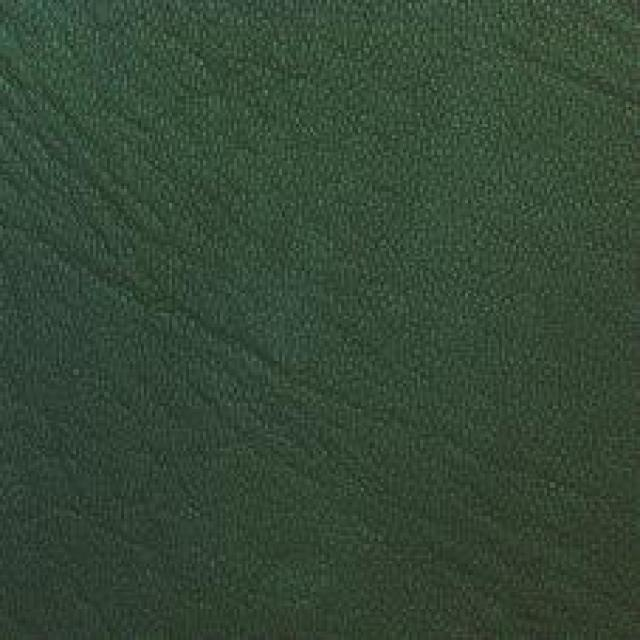Growth Marks: (54, 244, 267, 370), (24, 52, 184, 210)
